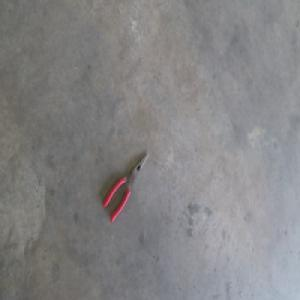Pliers: (101, 151, 147, 222)
